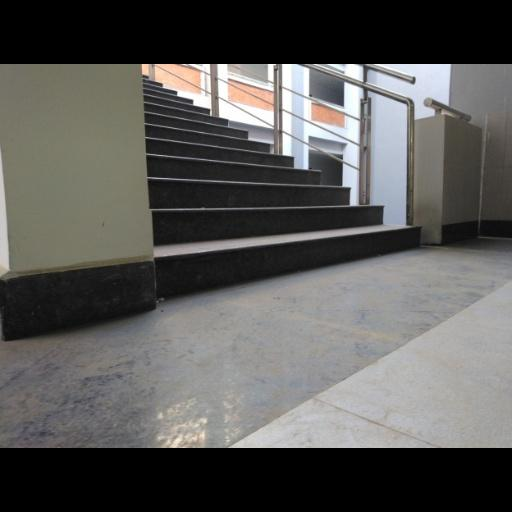stairs: (143, 77, 420, 297)
